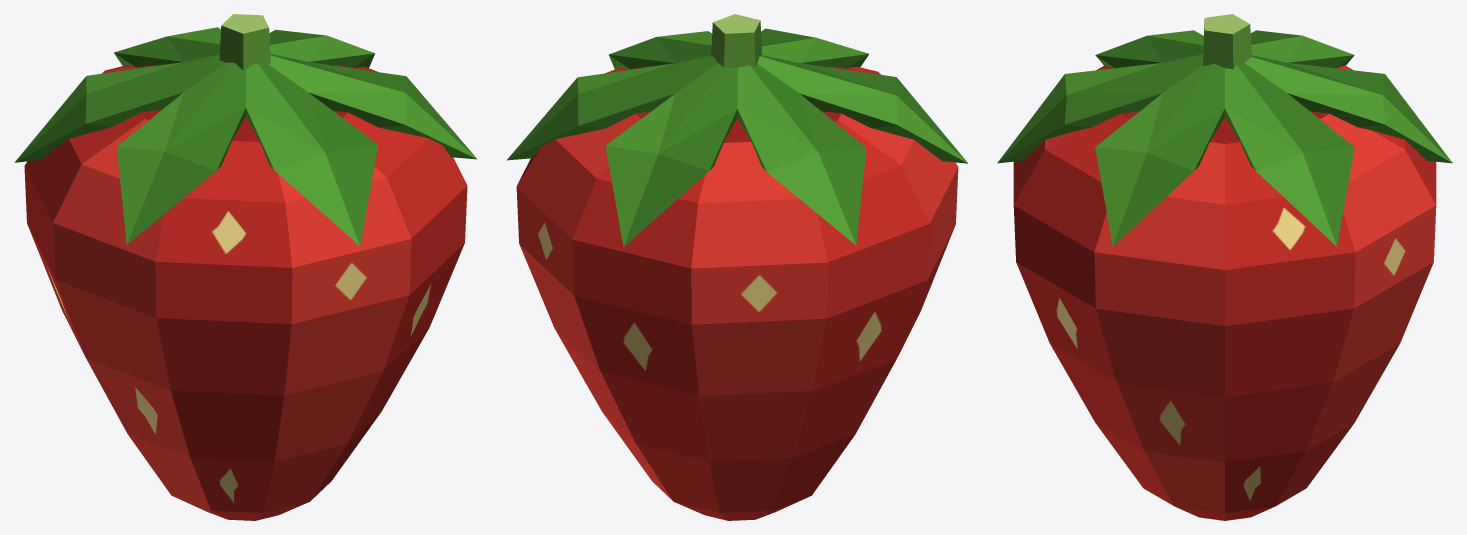
The model's file is FMS_Fruit_Strawberry.fbx.
The picture shows the model from 3 angles, left to right: view 1: azimuth 30°, elevation 25°; view 2: azimuth 150°, elevation 25°; view 3: azimuth 270°, elevation 25°; orthographic projection.
Parts seen in each view (by area): view 1: item_produce_strawberry; view 2: item_produce_strawberry; view 3: item_produce_strawberry.
Boxes of the visible parts, x1,y1,x2,y2 form: item_produce_strawberry: [14, 14, 476, 520]; item_produce_strawberry: [507, 14, 967, 520]; item_produce_strawberry: [997, 14, 1452, 520].
Size of the model in its own units: 0.0352 by 0.0418 by 0.0361.
1 material, 1 textured.
